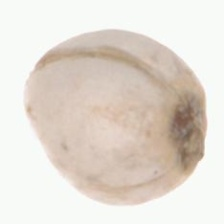L1: (173, 95, 207, 174), (22, 51, 50, 116)
L2: (23, 30, 206, 206)
